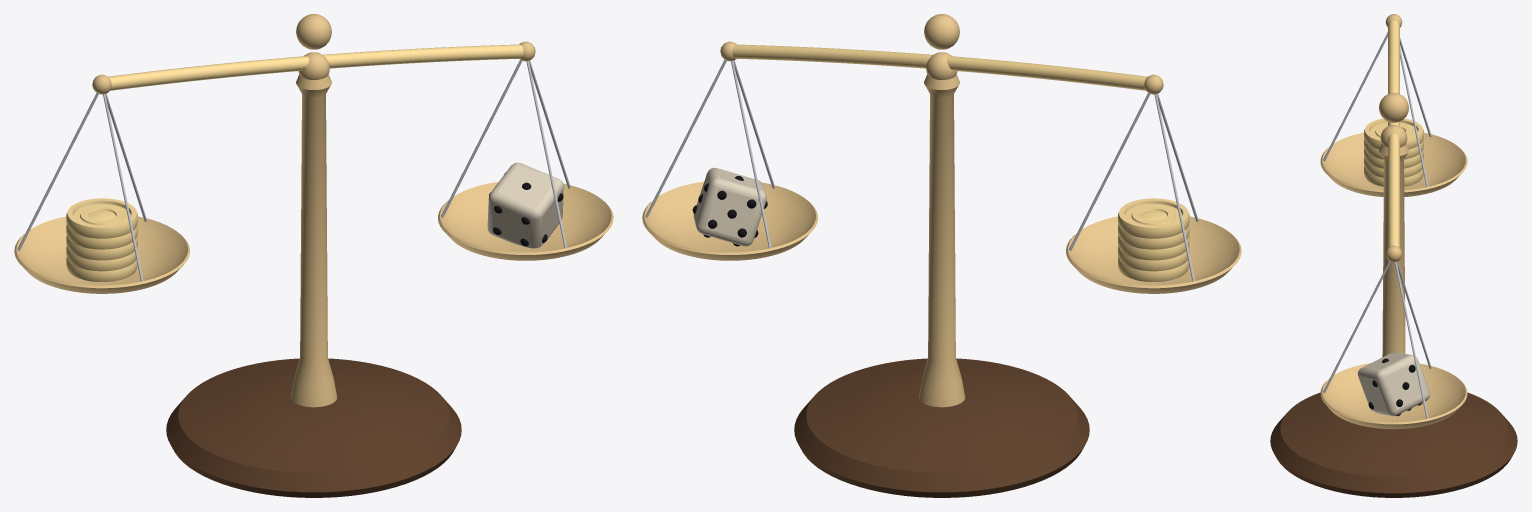
The model's file is scales.glb.
3 views of the same model, side by side, from view 1: azimuth 30°, elevation 25°; view 2: azimuth 150°, elevation 25°; view 3: azimuth 270°, elevation 25° (orthographic). The views are drawn at different scales.
Visible parts, largest first — view 1: base, pillar, panR, panL, beam, pd, coin.004, finial, coin.002, coin, coin.003, coin.001; view 2: base, pillar, panR, panL, beam, pd, coin.004, finial, coin.003, coin, coin.002, coin.001; view 3: base, panR, panL, pd, pillar, beam, coin.004, finial, chain.003, chain.005, chain.002, chain (+7 smaller).
Part boxes in pixels (bbox=[...]): base: bbox=[166, 358, 461, 497]; pillar: bbox=[290, 74, 337, 407]; panR: bbox=[438, 181, 613, 260]; panL: bbox=[14, 216, 189, 293]; beam: bbox=[108, 44, 523, 90]; pd: bbox=[487, 162, 563, 248]; coin.004: bbox=[66, 198, 137, 238]; finial: bbox=[296, 14, 331, 49]; coin.002: bbox=[66, 235, 137, 260]; coin: bbox=[66, 257, 137, 281]; coin.003: bbox=[66, 224, 137, 249]; coin.001: bbox=[66, 246, 137, 271]; base: bbox=[794, 358, 1089, 497]; pillar: bbox=[918, 74, 965, 407]; panR: bbox=[642, 181, 817, 260]; panL: bbox=[1066, 216, 1241, 293]; beam: bbox=[732, 44, 1147, 90]; pd: bbox=[693, 167, 766, 246]; coin.004: bbox=[1118, 198, 1189, 238]; finial: bbox=[924, 14, 959, 49]; coin.003: bbox=[1118, 224, 1189, 249]; coin: bbox=[1118, 257, 1189, 281]; coin.002: bbox=[1118, 235, 1189, 260]; coin.001: bbox=[1118, 246, 1189, 271]; base: bbox=[1270, 392, 1517, 497]; panR: bbox=[1320, 363, 1467, 429]; panL: bbox=[1320, 132, 1467, 196]; pd: bbox=[1357, 352, 1430, 416]; pillar: bbox=[1379, 143, 1408, 356]; beam: bbox=[1388, 20, 1399, 247]; coin.004: bbox=[1364, 118, 1423, 149]; finial: bbox=[1379, 93, 1408, 122]; chain.003: bbox=[1394, 262, 1428, 418]; chain.005: bbox=[1323, 261, 1390, 393]; chain.002: bbox=[1323, 32, 1387, 161]; chain: bbox=[1400, 47, 1428, 186].
Bounding box in the file's own units: 1.66 × 1.17 × 0.74.
